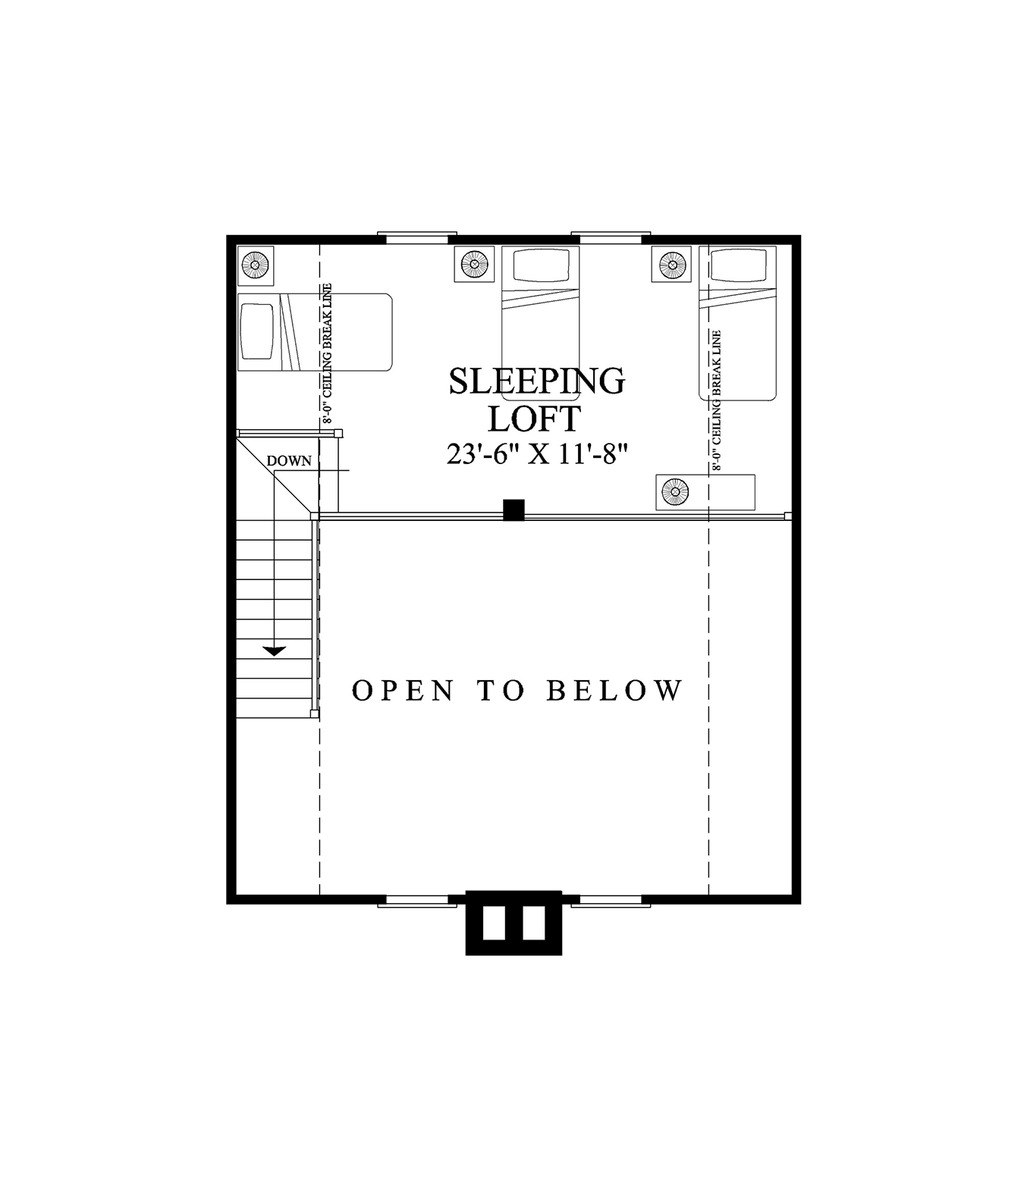bed: (692, 241, 792, 414), (227, 290, 401, 374), (501, 243, 583, 410)
stairs: (232, 432, 347, 765)
window: (565, 883, 649, 914), (381, 890, 458, 912), (381, 223, 460, 245), (583, 234, 652, 248)
